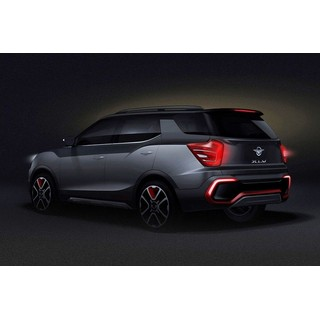car: (26, 106, 293, 229)
